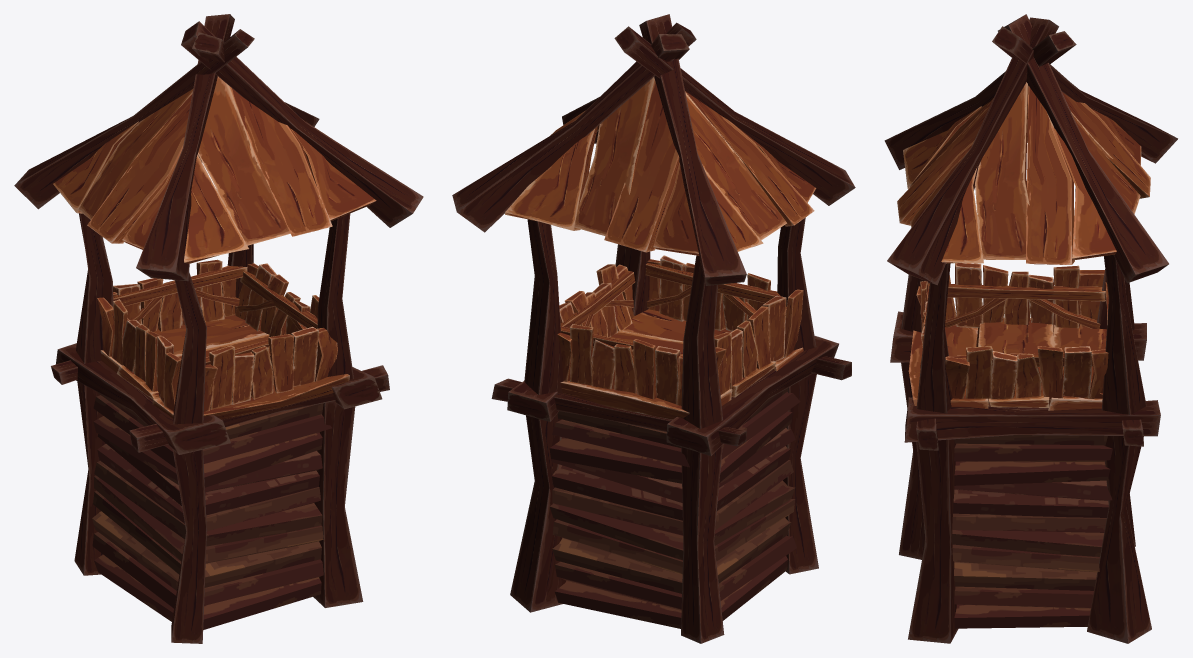
File: Wall 2.fbx
3 renders of one model, left to right at view 1: azimuth 30°, elevation 25°; view 2: azimuth 150°, elevation 25°; view 3: azimuth 270°, elevation 25°, orthographic. The views are drawn at different scales.
Visible parts, largest first — view 1: SM_PROP_watchtower_wood_3; view 2: SM_PROP_watchtower_wood_3; view 3: SM_PROP_watchtower_wood_3.
Part boxes in pixels (<box>): SM_PROP_watchtower_wood_3: <box>14,14,423,643</box>; SM_PROP_watchtower_wood_3: <box>452,14,855,643</box>; SM_PROP_watchtower_wood_3: <box>884,14,1177,643</box>.
Size of the model in its own units: 734 by 1310 by 608.
